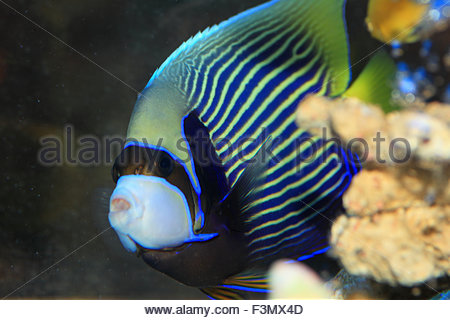Pomacanthus_imperator: (94, 2, 446, 303)
